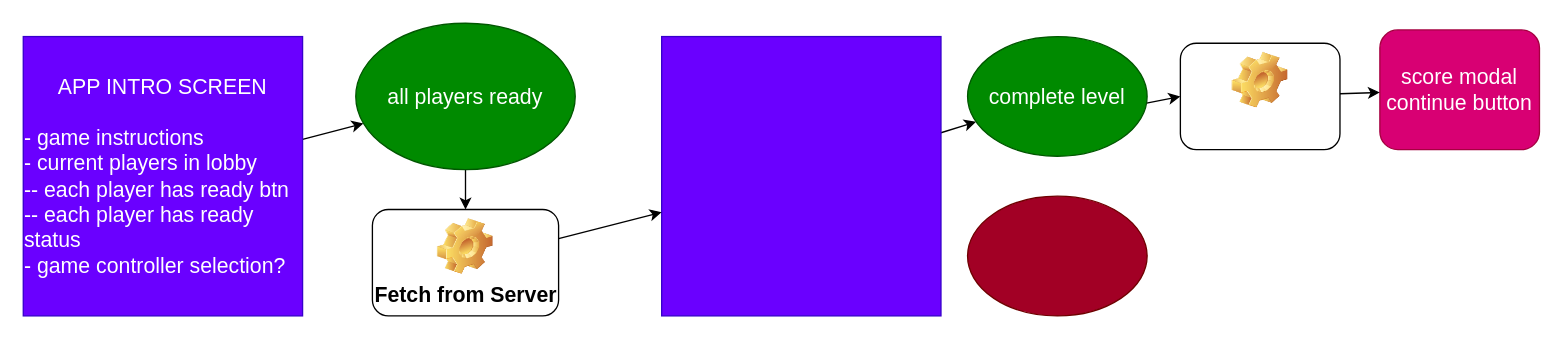
This 1563x339 diagram has some shape labels left out. The centre of each missing label's shape, as x and y in pixels:
fail possible?: point (1056, 255)
LEVEL 1 - tutorial: point (800, 175)
Save to Server: point (1259, 96)
